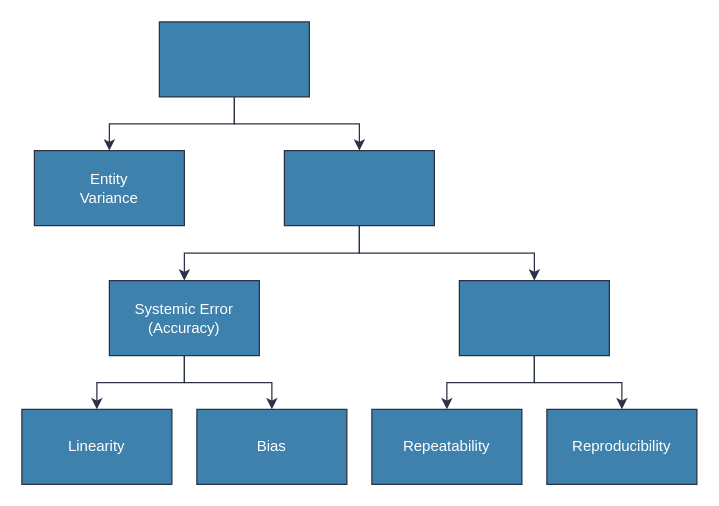
This 719x506 diagram has some shape labels left out. The centre of each missing label's shape, as x and y in pixels:
Observed Variance: (233,59)
Observer Variance: (358,187)
Random Error (Precision): (533,317)
